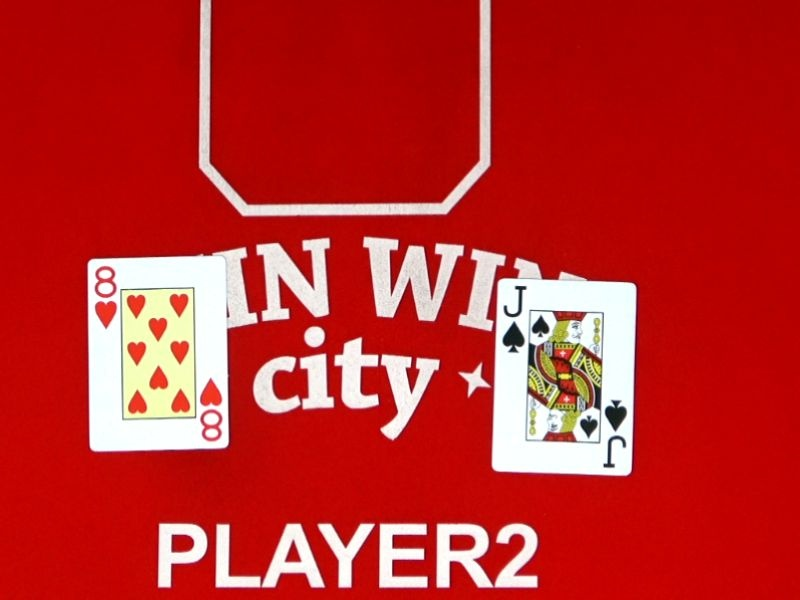8H: (67, 263, 141, 331), (176, 376, 248, 442)
JS: (575, 396, 656, 471), (477, 284, 554, 355)
